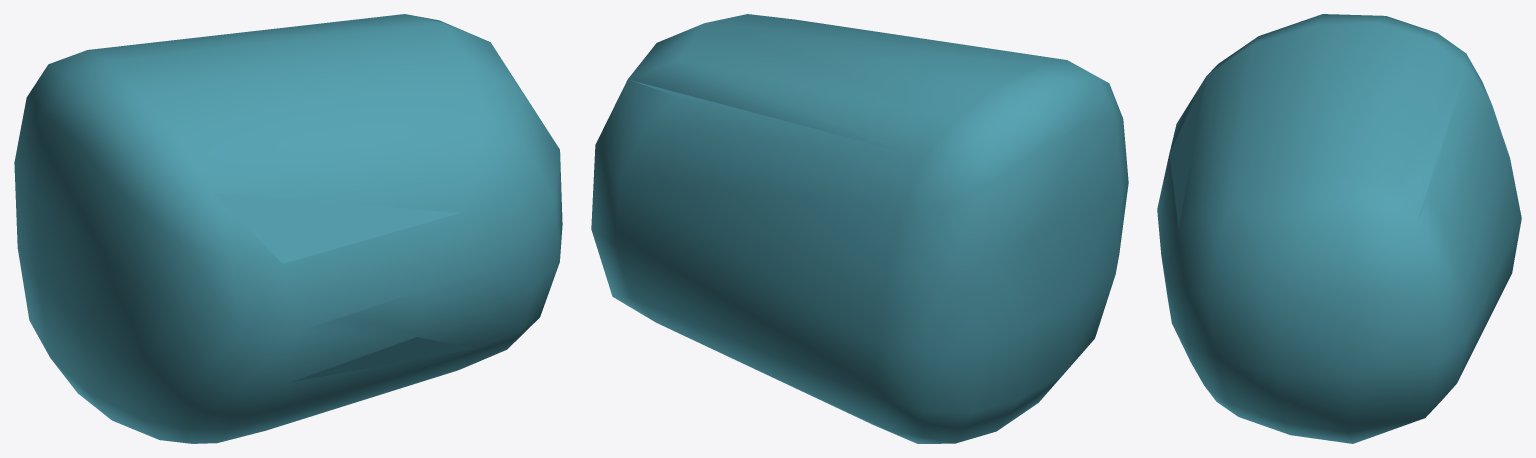
The model's file is COL_Alpha_Surface_021_convex_hull.dae.
The picture shows the model from 3 angles, left to right: view 1: azimuth 30°, elevation 25°; view 2: azimuth 150°, elevation 25°; view 3: azimuth 270°, elevation 25°; orthographic projection. The views are drawn at different scales.
Parts seen in each view (by area): view 1: COL_Alpha_Surface_021_convex_hull; view 2: COL_Alpha_Surface_021_convex_hull; view 3: COL_Alpha_Surface_021_convex_hull.
Boxes of the visible parts, x1,y1,x2,y2 form: COL_Alpha_Surface_021_convex_hull: [14, 14, 562, 443]; COL_Alpha_Surface_021_convex_hull: [591, 14, 1128, 443]; COL_Alpha_Surface_021_convex_hull: [1157, 14, 1521, 443].
Size of the model in its own units: 3.42 by 2.72 by 2.5.
